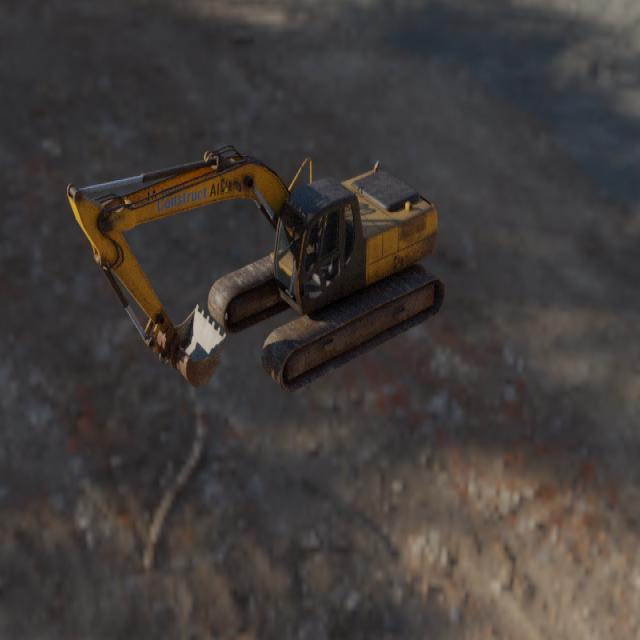excavator: (66, 145, 446, 392)
